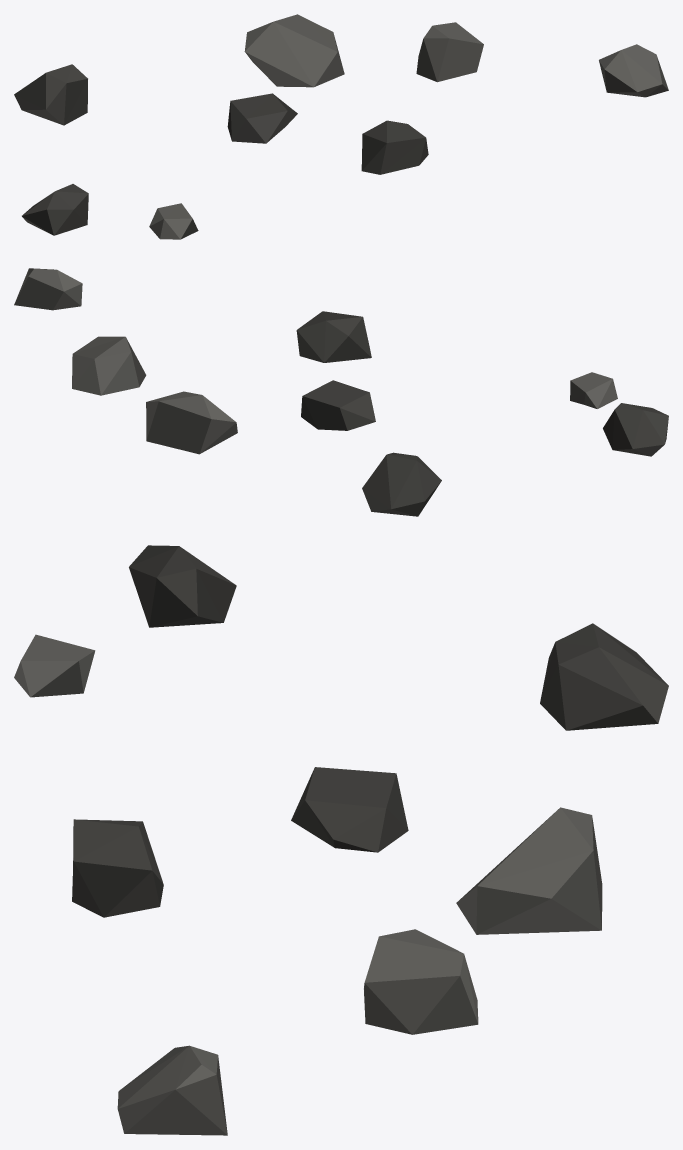
File: SM_Env_Rock_Pebbles_02.fbx
3 views of the same model, one above another, from view 1: azimuth 30°, elevation 25°; view 2: azimuth 150°, elevation 25°; view 3: azimuth 270°, elevation 25° (orthographic). The views are drawn at different scales.
Visible parts, largest first — view 1: SM_Env_Rock_Pebbles_02; view 2: SM_Env_Rock_Pebbles_02; view 3: SM_Env_Rock_Pebbles_02.
Boxes of the visible parts, left/top/right/bottom form: SM_Env_Rock_Pebbles_02: left=14, top=14, right=668, bottom=239; SM_Env_Rock_Pebbles_02: left=14, top=268, right=668, bottom=516; SM_Env_Rock_Pebbles_02: left=14, top=545, right=668, bottom=1135.
Size of the model in its own units: 69.74 by 5.02 by 34.97.
Materials: 1 (1 with a texture image).
